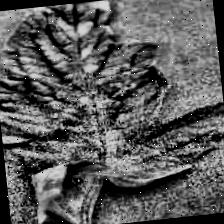leaf mold: (0, 0, 224, 202)
